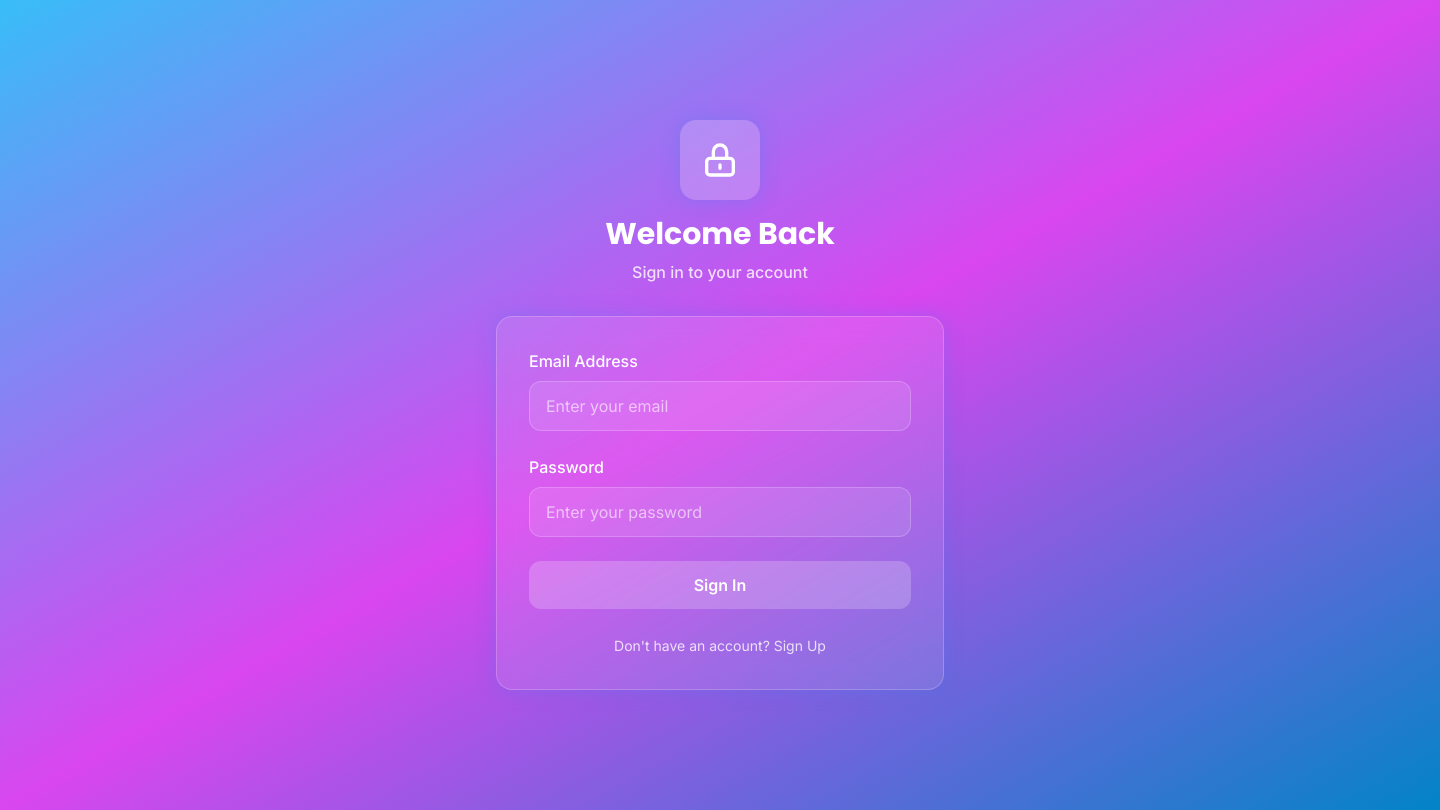
Test case: LoginPage › toggles between login and register modes
The image size is (1440, 810).
What coordinates should you click on to do the following:
click the button "Don't have an account? Sign Up"
I would click on:
 (720, 646)
Its box is left=614, top=636, right=826, bottom=656.
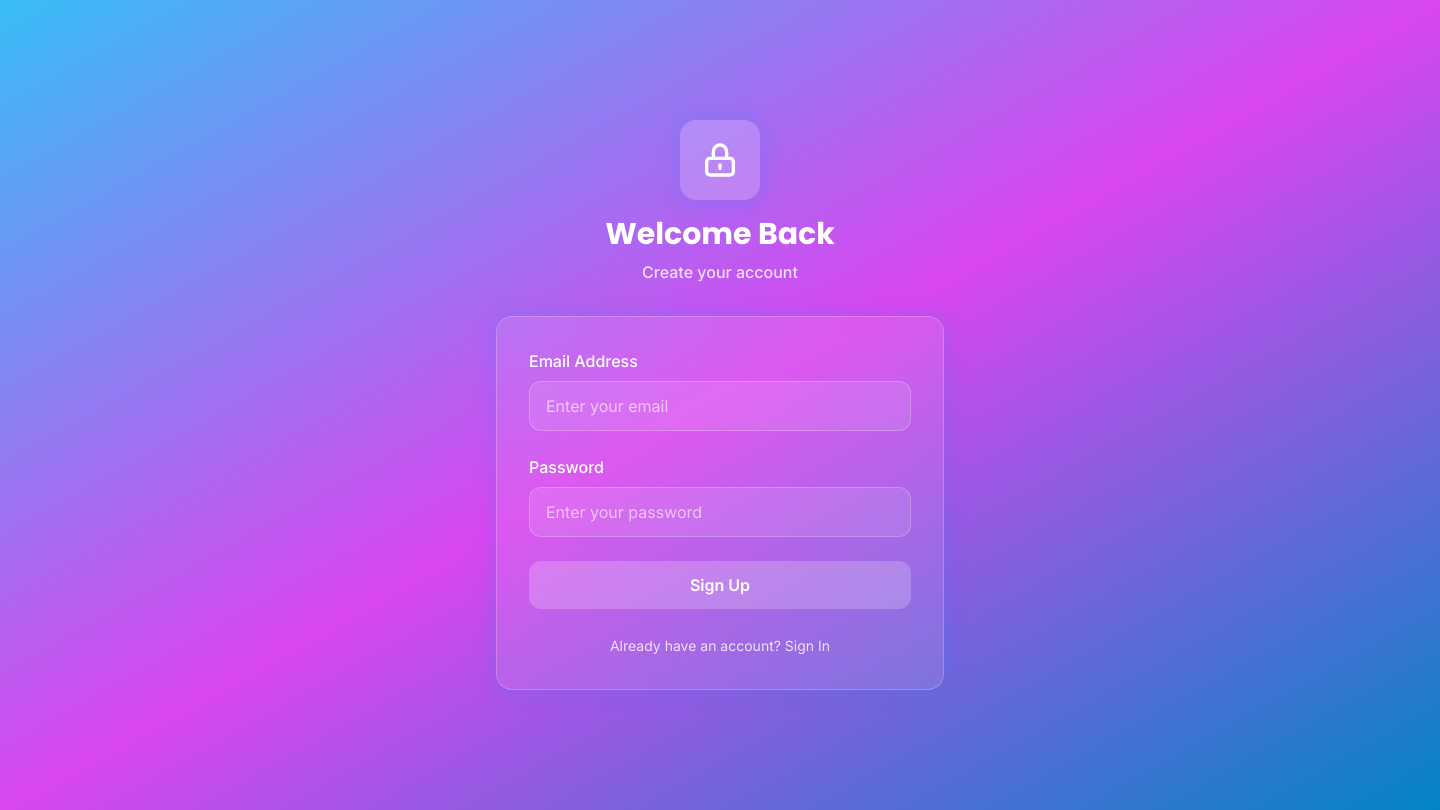
Expected: the button "Sign Up" is shown, left=529, top=561, right=911, bottom=609
Expected: the button "Already have an account? Sign In" is shown, left=610, top=636, right=830, bottom=656
